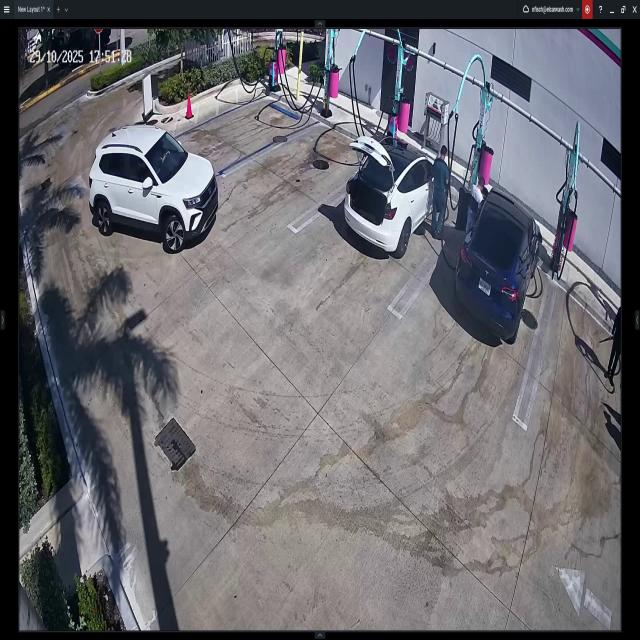Car: (87, 134, 219, 252), (452, 179, 540, 335), (344, 126, 444, 256)
